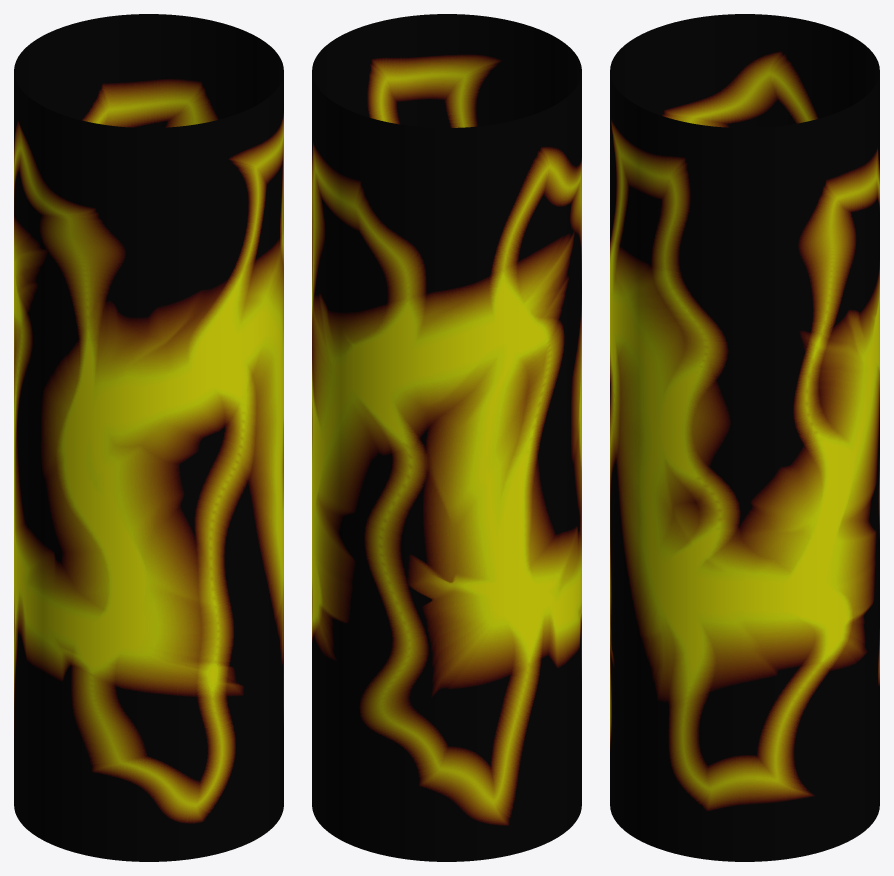
3 renders of one model, left to right at view 1: azimuth 30°, elevation 25°; view 2: azimuth 150°, elevation 25°; view 3: azimuth 270°, elevation 25°, orthographic.
Parts seen in each view (by area): view 1: SM_Cylinder_High.001; view 2: SM_Cylinder_High.001; view 3: SM_Cylinder_High.001.
Part boxes in pixels (x1,y1,x2,y2): SM_Cylinder_High.001: (14,14,283,861); SM_Cylinder_High.001: (312,14,581,861); SM_Cylinder_High.001: (610,14,879,861).
Size of the model in its own units: 20000 by 60000 by 20000.
Materials: 1 (1 with a texture image).
